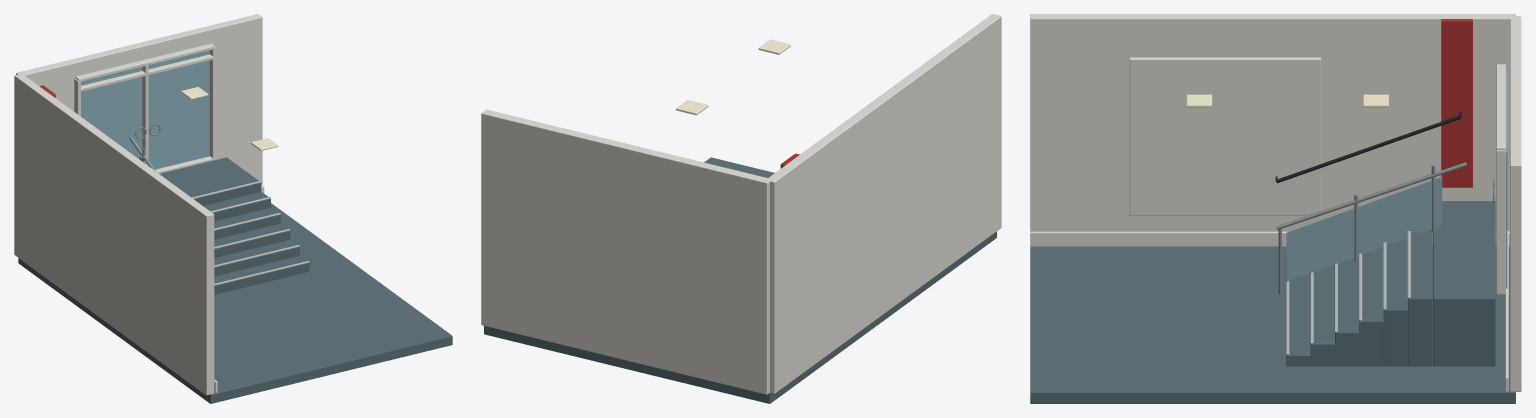
Rendered from lak-interior.glb.
3 renders of one model, left to right at view 1: azimuth 30°, elevation 25°; view 2: azimuth 150°, elevation 25°; view 3: azimuth 270°, elevation 25°, orthographic. The views are drawn at different scales.
Visible parts, largest first — view 1: LAK_INTERIOR; view 2: LAK_INTERIOR; view 3: LAK_INTERIOR.
Boxes of the visible parts, bbox=[...] form: LAK_INTERIOR: bbox=[14, 14, 452, 403]; LAK_INTERIOR: bbox=[481, 14, 1001, 403]; LAK_INTERIOR: bbox=[1030, 14, 1521, 403].
Bounding box in the file's own units: 4.88 × 3.58 × 6.68.
